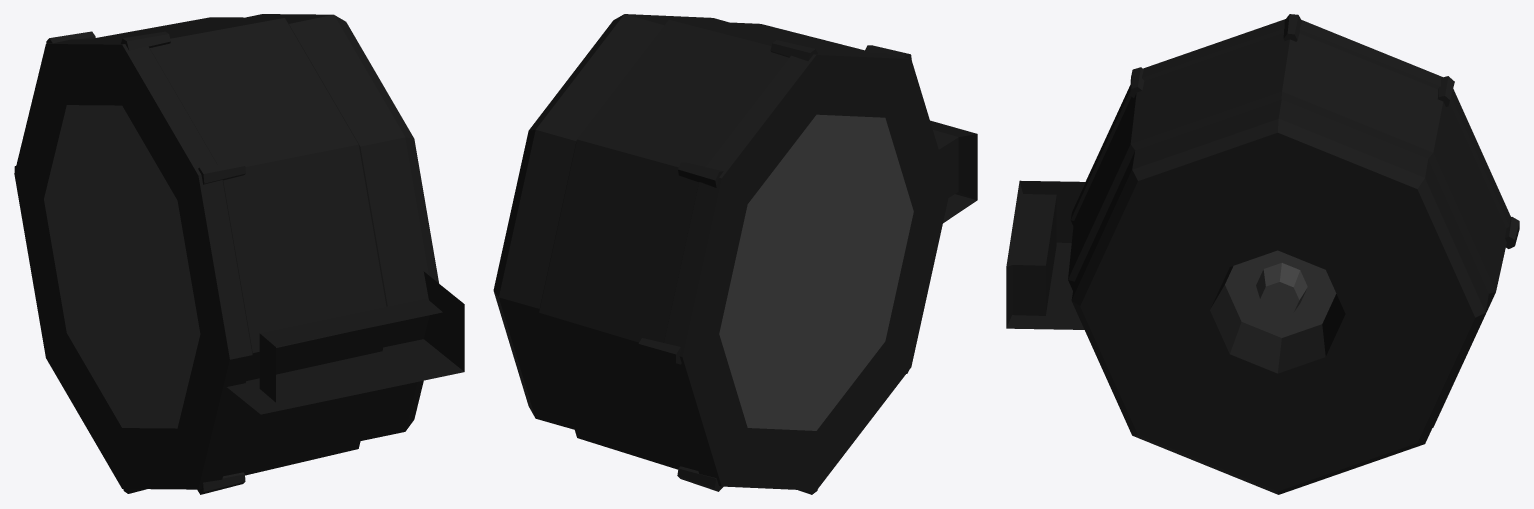
The model's file is UltimaxMag.glb.
The picture shows the model from 3 angles, left to right: view 1: azimuth 30°, elevation 25°; view 2: azimuth 150°, elevation 25°; view 3: azimuth 270°, elevation 25°; orthographic projection. The views are drawn at different scales.
Parts seen in each view (by area): view 1: UltimaxMag; view 2: UltimaxMag; view 3: UltimaxMag.
Boxes of the visible parts, x1=… form: UltimaxMag: x1=14, y1=14, x2=464, y2=494; UltimaxMag: x1=493, y1=14, x2=977, y2=494; UltimaxMag: x1=1006, y1=14, x2=1519, y2=494.
Bounding box in the file's own units: 0.3569 × 0.635 × 0.7233.
1 material, 1 textured.
